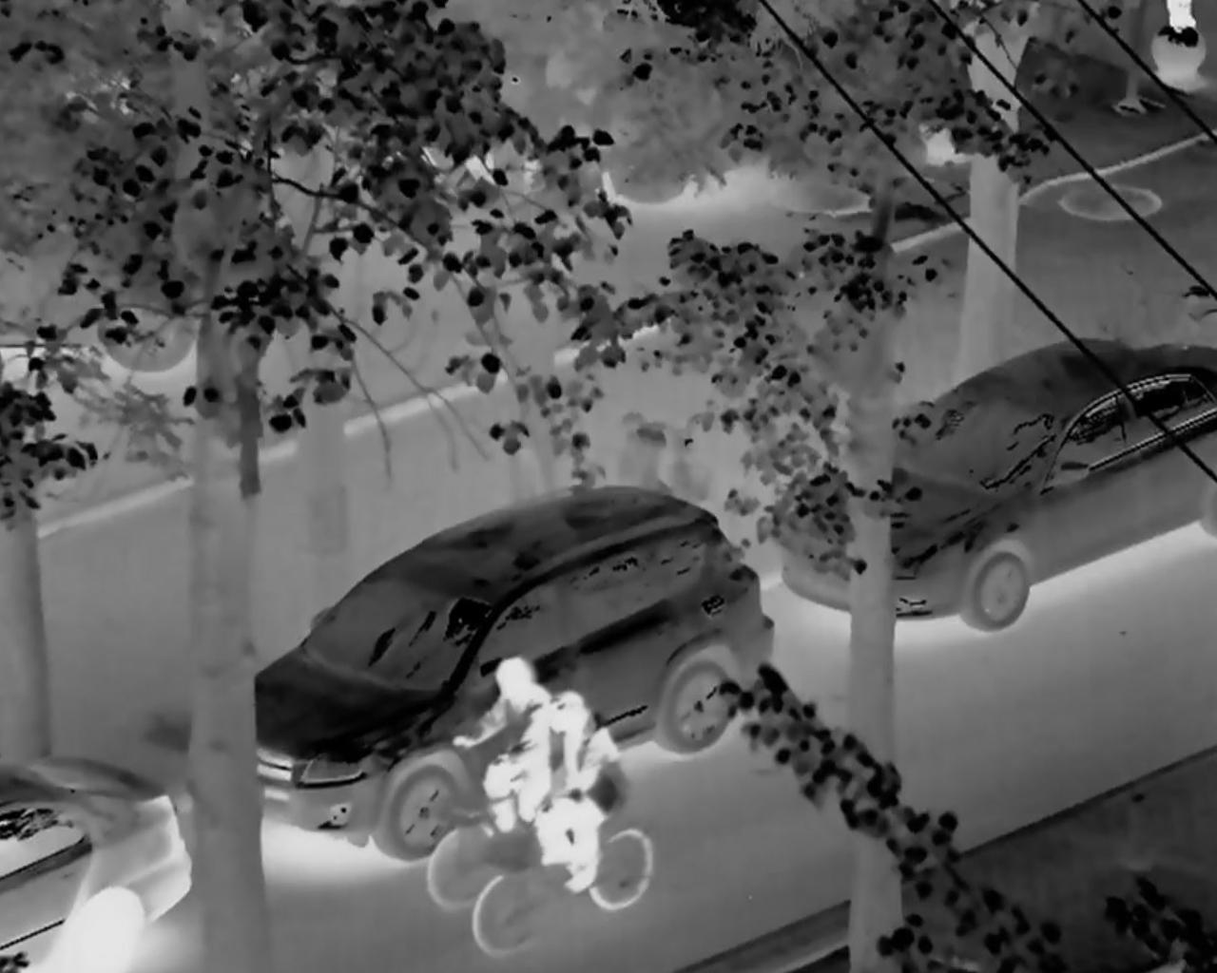person: (454, 655, 557, 899), (504, 693, 615, 896)
